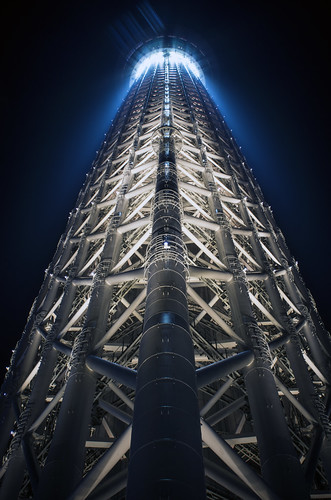high: (5, 45, 331, 500)
